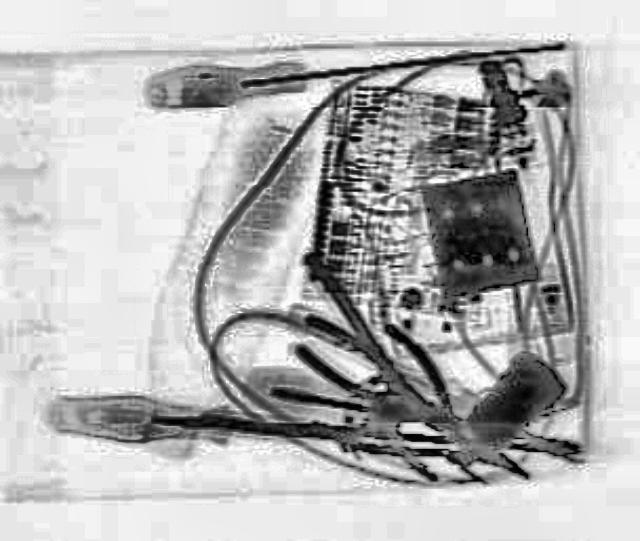Pliers: (287, 294, 563, 504), (255, 384, 581, 474)
